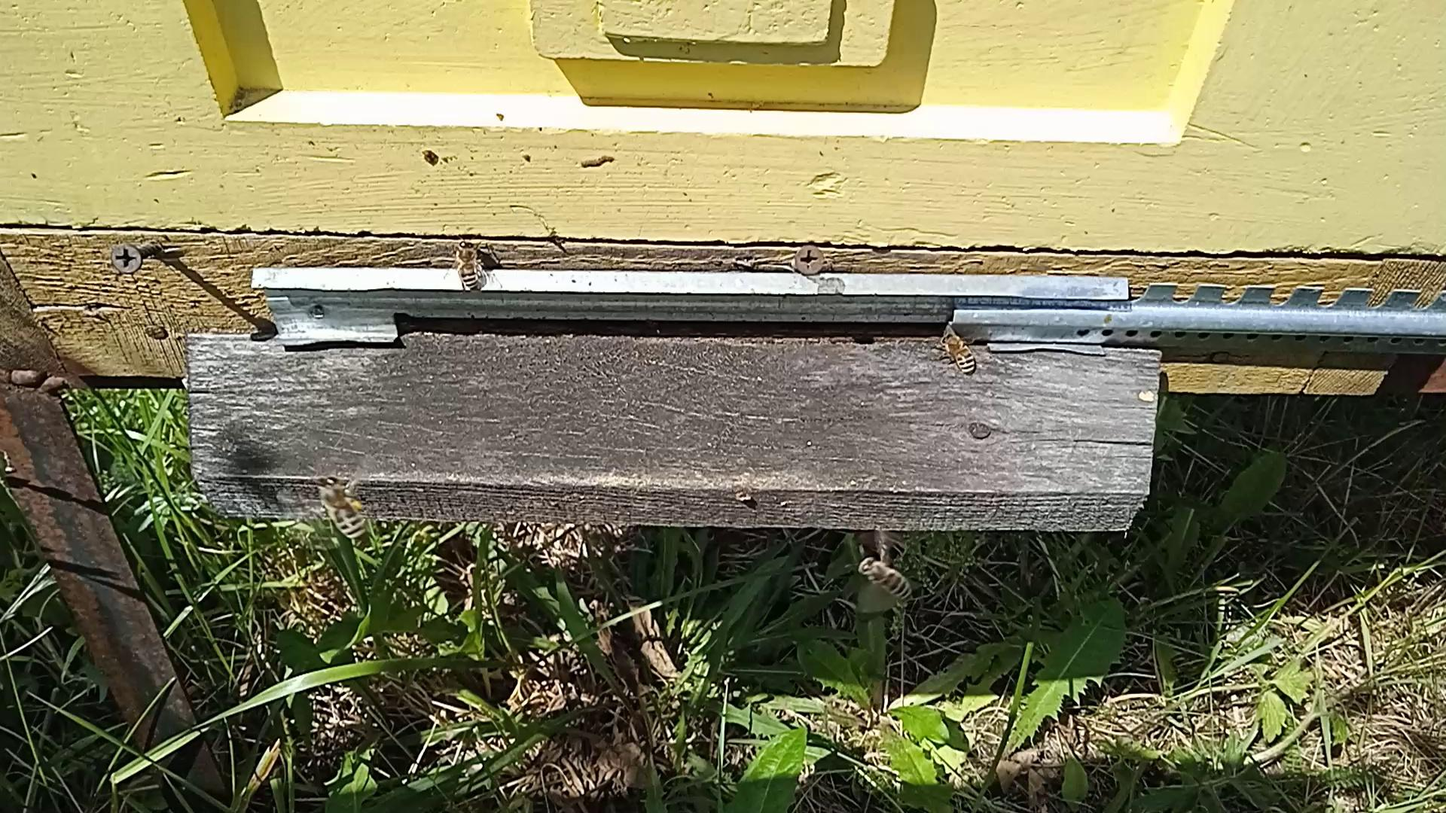worker-bee: (317, 474, 368, 540), (857, 556, 914, 599), (450, 239, 487, 293), (939, 329, 978, 376)
